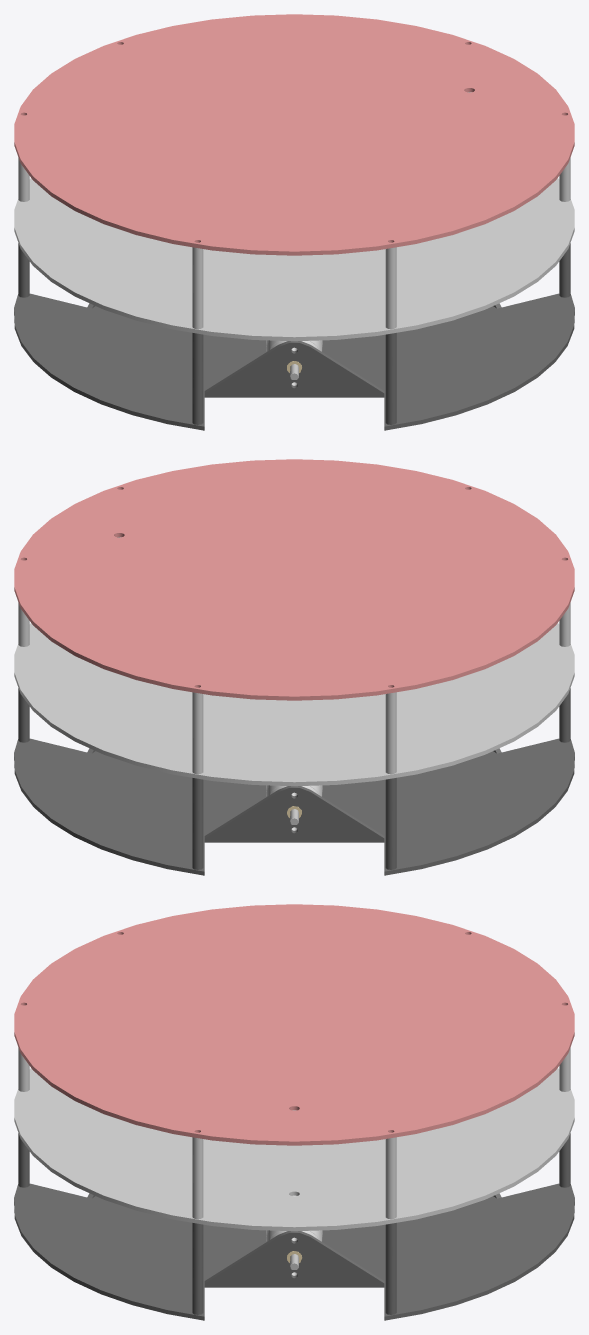
3 views of the same model, one above another, from view 1: azimuth 30°, elevation 25°; view 2: azimuth 150°, elevation 25°; view 3: azimuth 270°, elevation 25° (orthographic).
Visible parts, largest first — view 1: base_link_3; view 2: base_link_3; view 3: base_link_3.
Boxes of the visible parts, x1,y1,x2,y2 form: base_link_3: (14, 14, 574, 430); base_link_3: (14, 459, 574, 875); base_link_3: (14, 904, 574, 1320).
Size of the model in its own units: 0.25 by 0.2496 by 0.091.
